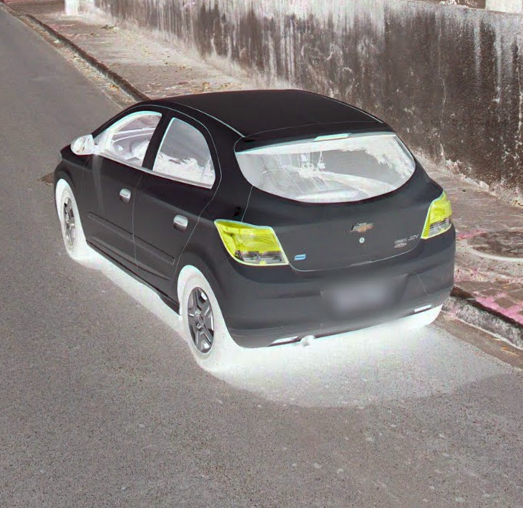car: (51, 86, 458, 374)
